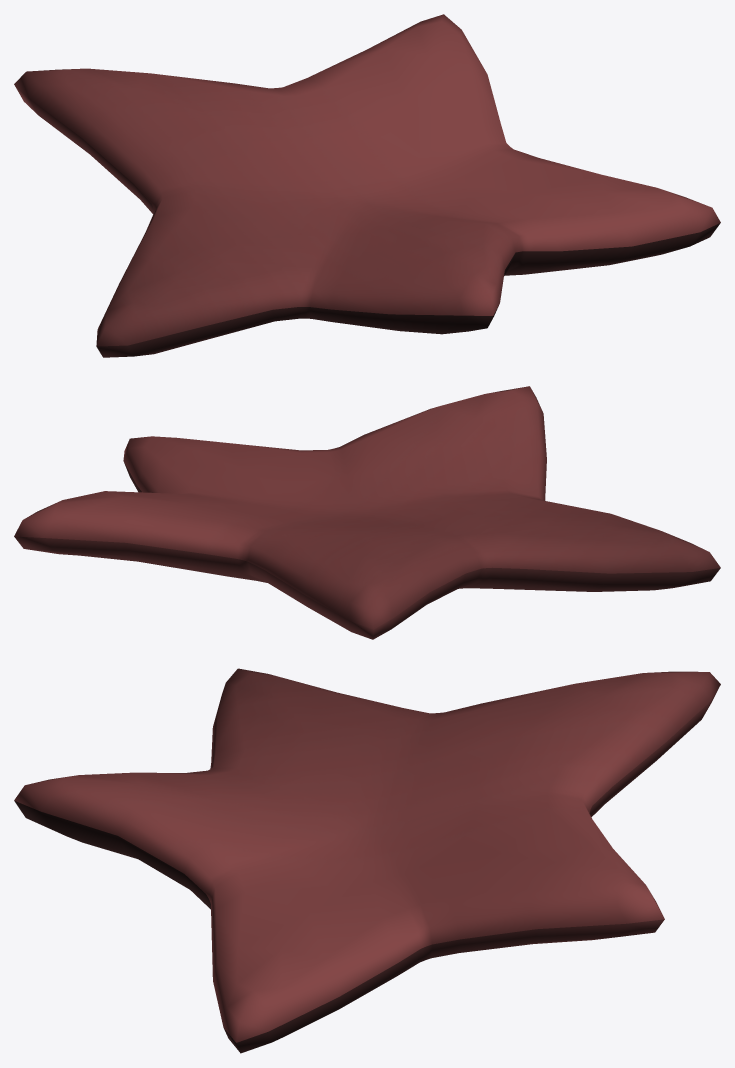
The model's file is star.glb.
3 views of the same model, one above another, from view 1: azimuth 30°, elevation 25°; view 2: azimuth 150°, elevation 25°; view 3: azimuth 270°, elevation 25° (orthographic). The views are drawn at different scales.
Parts seen in each view (by area): view 1: cc_star4; view 2: cc_star4; view 3: cc_star4.
Part boxes in pixels (<box>): cc_star4: <box>14,14,720,357</box>; cc_star4: <box>14,386,720,639</box>; cc_star4: <box>14,668,720,1053</box>.
Bounding box in the file's own units: 0.1508 × 0.0321 × 0.1358.
1 material, 1 textured.
